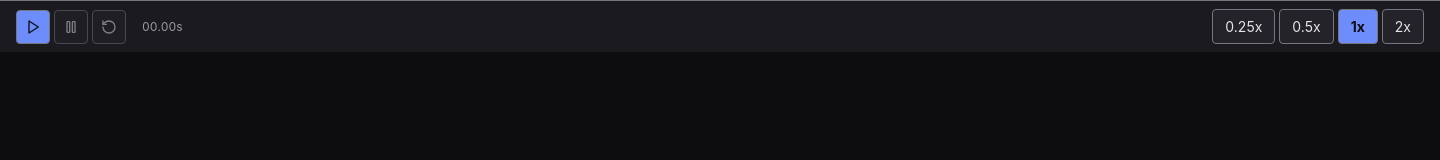
TransportBar (§16/§17, M3.4/M3.5) › clicking Reset returns to idle: Reset disables again
Click the button named "Play". click: {"x": 33, "y": 26}
box: [16, 10, 50, 44]
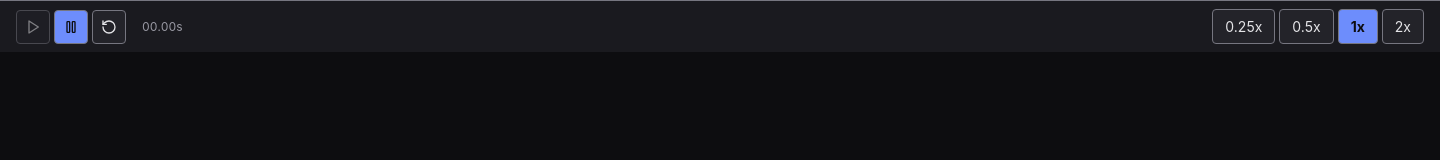
Click the button named "Reset". click: {"x": 109, "y": 26}
box: [92, 10, 126, 44]
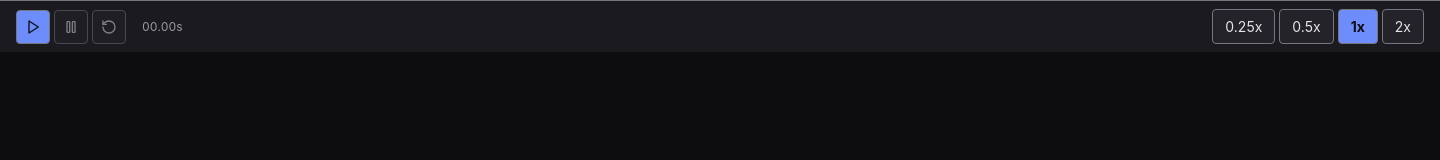
Expected: the button named "Play" is enabled, [16, 10, 50, 44]
Expected: the button named "Pause" is disabled, [54, 10, 88, 44]
Expected: the button named "Reset" is disabled, [92, 10, 126, 44]
